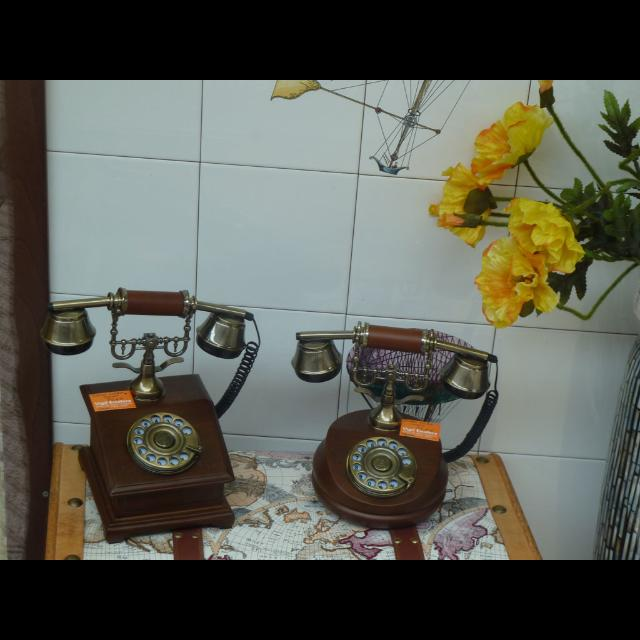Flower: (462, 93, 564, 189), (474, 235, 558, 327), (507, 197, 585, 276), (432, 164, 492, 242)
